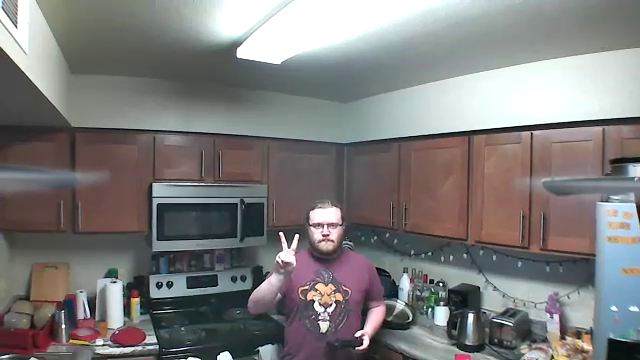peace: (272, 225, 307, 278)
